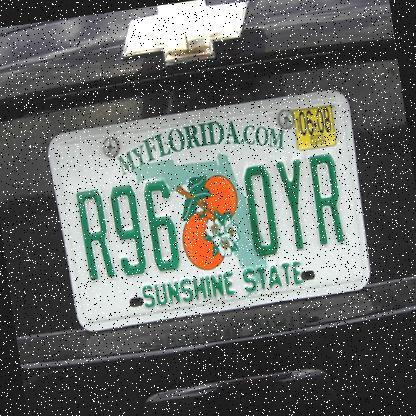License-Plate: (38, 72, 382, 349)
